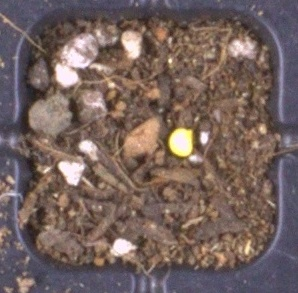chilli seed: (168, 127, 194, 157)
